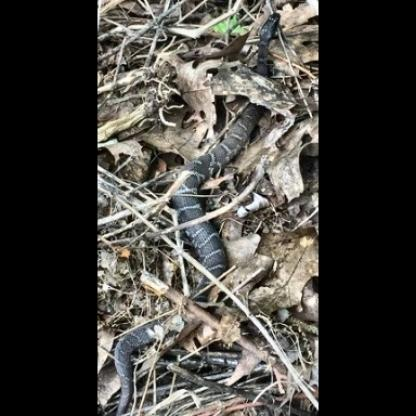Snake: (171, 10, 287, 351)
